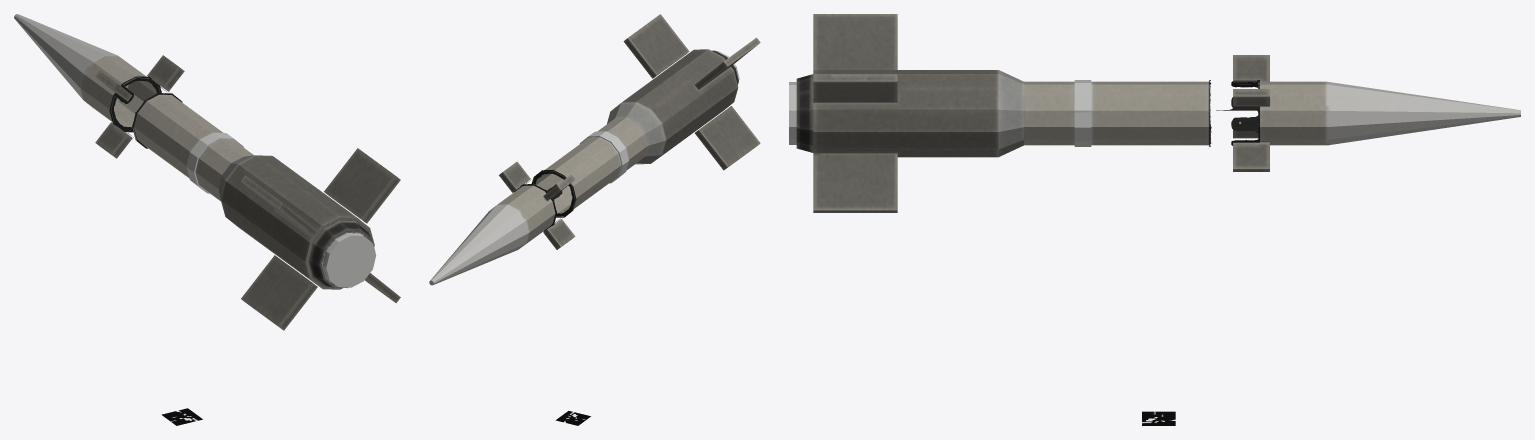
Rendered from ord_interceptor.fbx.
3 renders of one model, left to right at view 1: azimuth 30°, elevation 25°; view 2: azimuth 150°, elevation 25°; view 3: azimuth 270°, elevation 25°, orthographic. The views are drawn at different scales.
Visible parts, largest first — view 1: base_bar, base_glow_weapon_bar, base_glow_running_bar, emissive_probe; view 2: base_bar, base_glow_running_bar; view 3: base_bar, base_glow_running_bar.
Boxes of the visible parts, <box> form: base_bar: <box>14,14,400,330</box>; base_glow_weapon_bar: <box>323,233,376,287</box>; base_glow_running_bar: <box>186,132,243,193</box>; emissive_probe: <box>161,408,202,425</box>; base_bar: <box>429,14,760,285</box>; base_glow_running_bar: <box>580,131,629,183</box>; base_bar: <box>796,14,1520,212</box>; base_glow_running_bar: <box>1074,80,1091,146</box>.
Size of the model in its own units: 91.22 by 246 by 435.
Materials: 2 (2 with a texture image).
